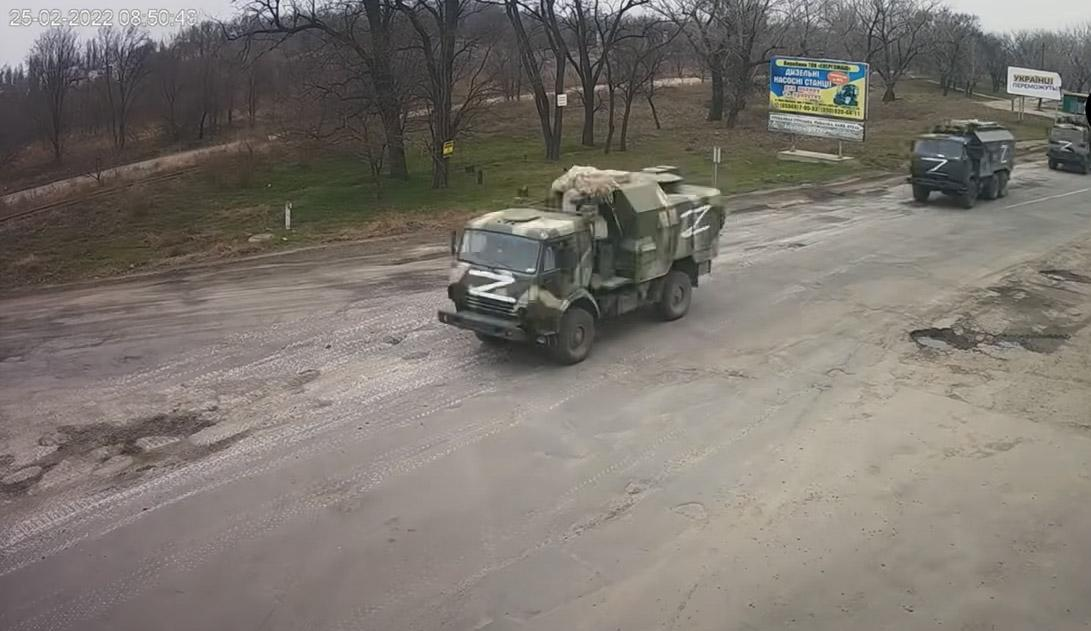truck: (436, 170, 742, 372), (904, 121, 1023, 214), (1040, 120, 1088, 174)
